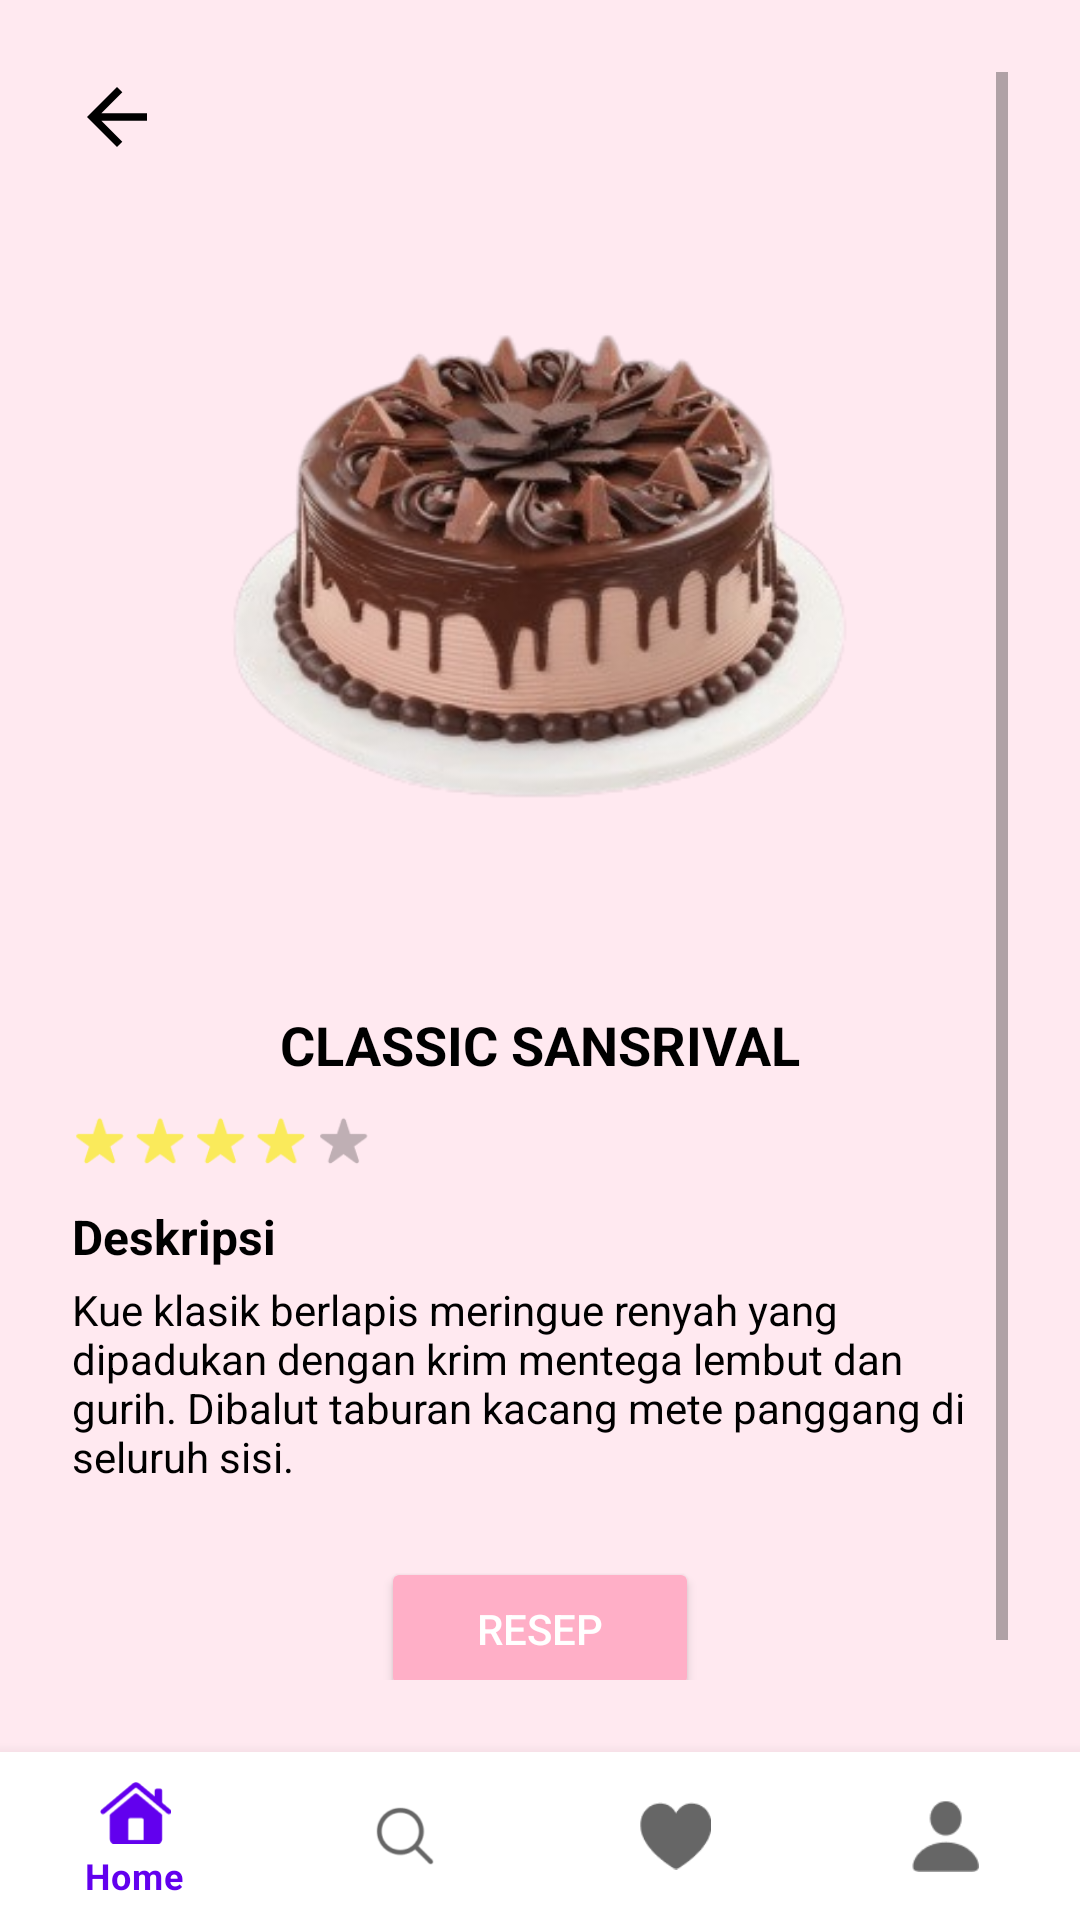

Where to tap for icons on this 1080px×1920px app screen, as point (x, y):
Back: point (117, 117)
